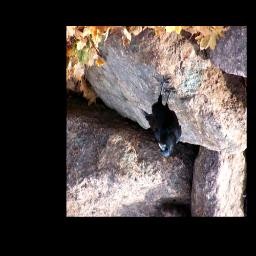Crow: (137, 74, 182, 161)
